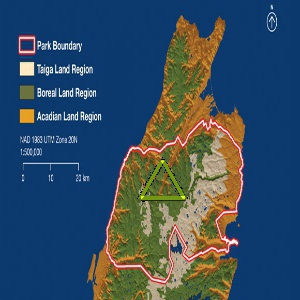triangle: (137, 157, 189, 204)
